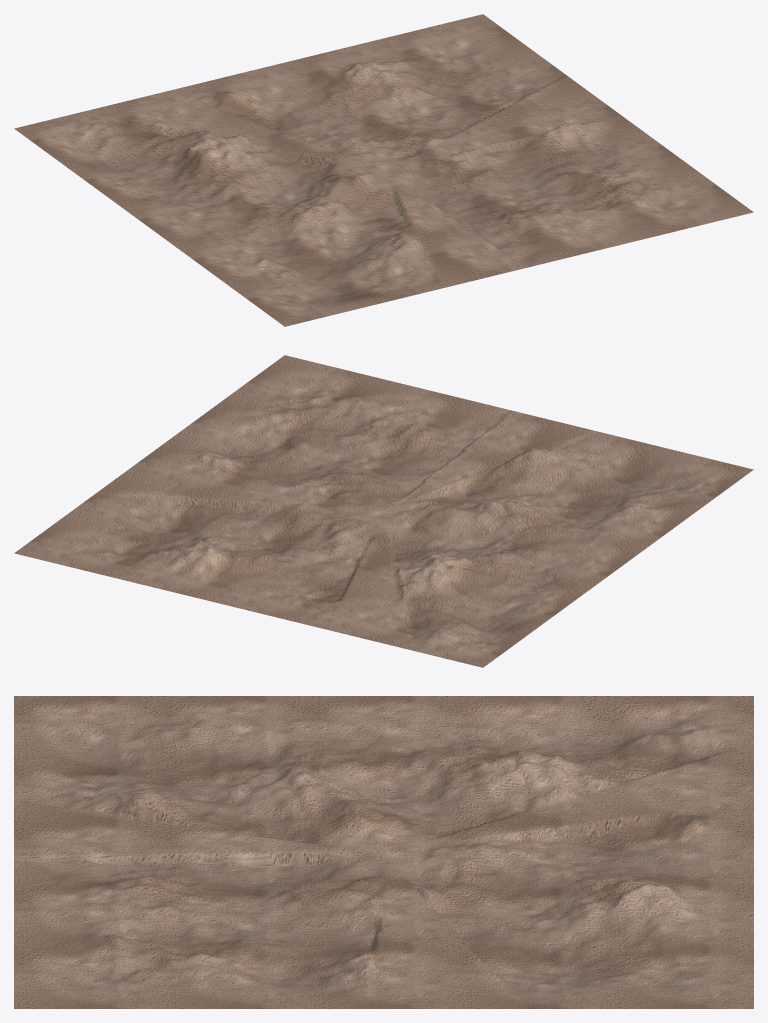
The model's file is terrain_desert_dunes_hd.glb.
3 renders of one model, top to bottom at view 1: azimuth 30°, elevation 25°; view 2: azimuth 150°, elevation 25°; view 3: azimuth 270°, elevation 25°, orthographic. The views are drawn at different scales.
Parts seen in each view (by area): view 1: DuneField; view 2: DuneField; view 3: DuneField.
Part boxes in pixels (<box>): DuneField: <box>14,14,753,326</box>; DuneField: <box>14,355,753,667</box>; DuneField: <box>14,696,753,1008</box>.
Size of the model in its own units: 300 by 15.04 by 300.
1 material, 1 textured.
